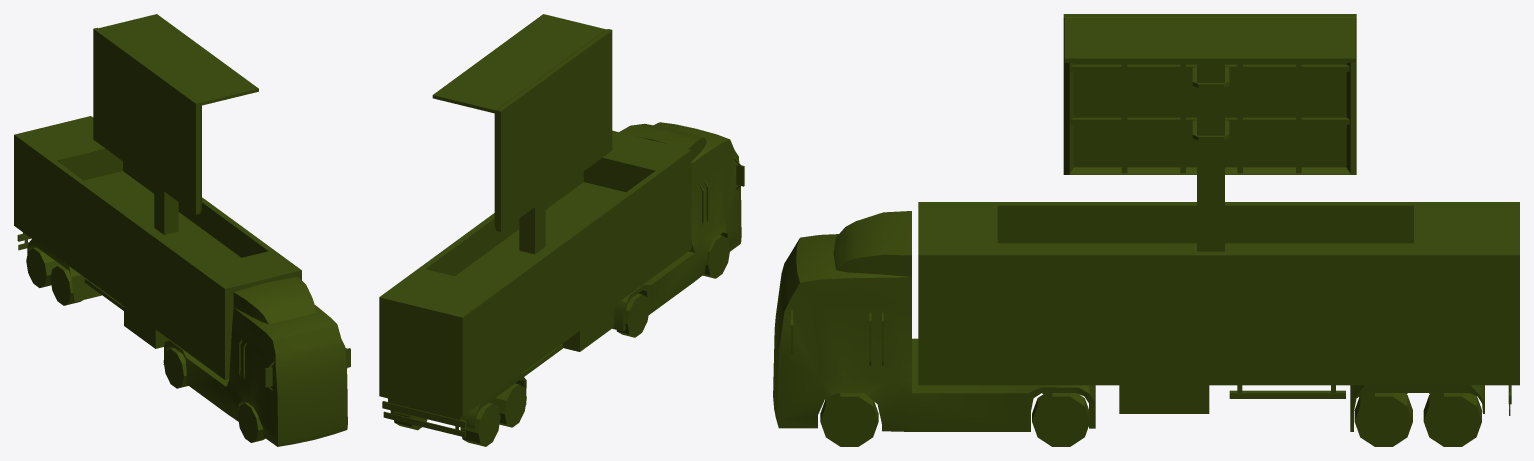
The model's file is Vehicle11_M.fbx.
The picture shows the model from 3 angles, left to right: view 1: azimuth 30°, elevation 25°; view 2: azimuth 150°, elevation 25°; view 3: azimuth 270°, elevation 25°; orthographic projection. The views are drawn at different scales.
Visible parts, largest first — view 1: Vehicle11; view 2: Vehicle11; view 3: Vehicle11.
Part boxes in pixels (x1,y1,x2,y2): Vehicle11: (14,14,350,446); Vehicle11: (379,14,744,446); Vehicle11: (773,14,1519,446).
Bounding box in the file's own units: 1.85 × 5.47 × 9.4.
